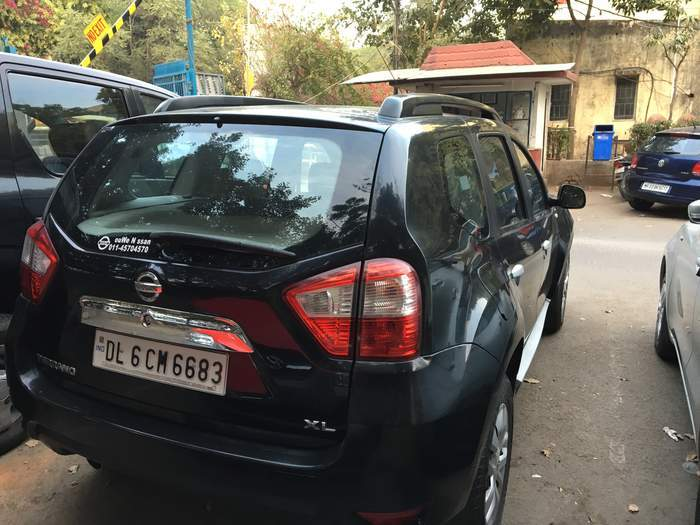number_plate: (89, 322, 244, 403)
